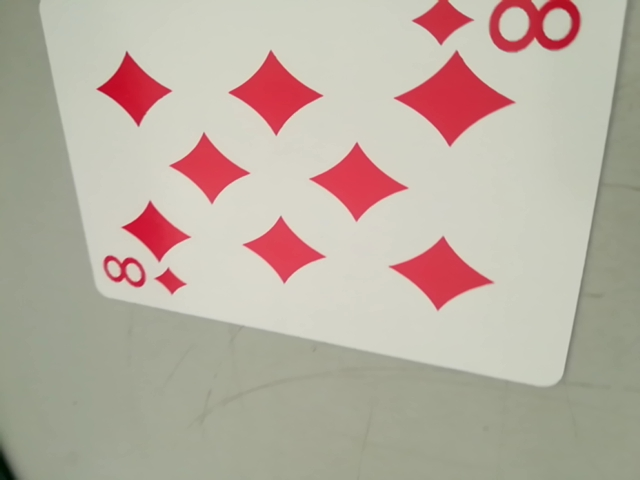fk 8: (411, 0, 586, 61), (99, 250, 186, 299)
